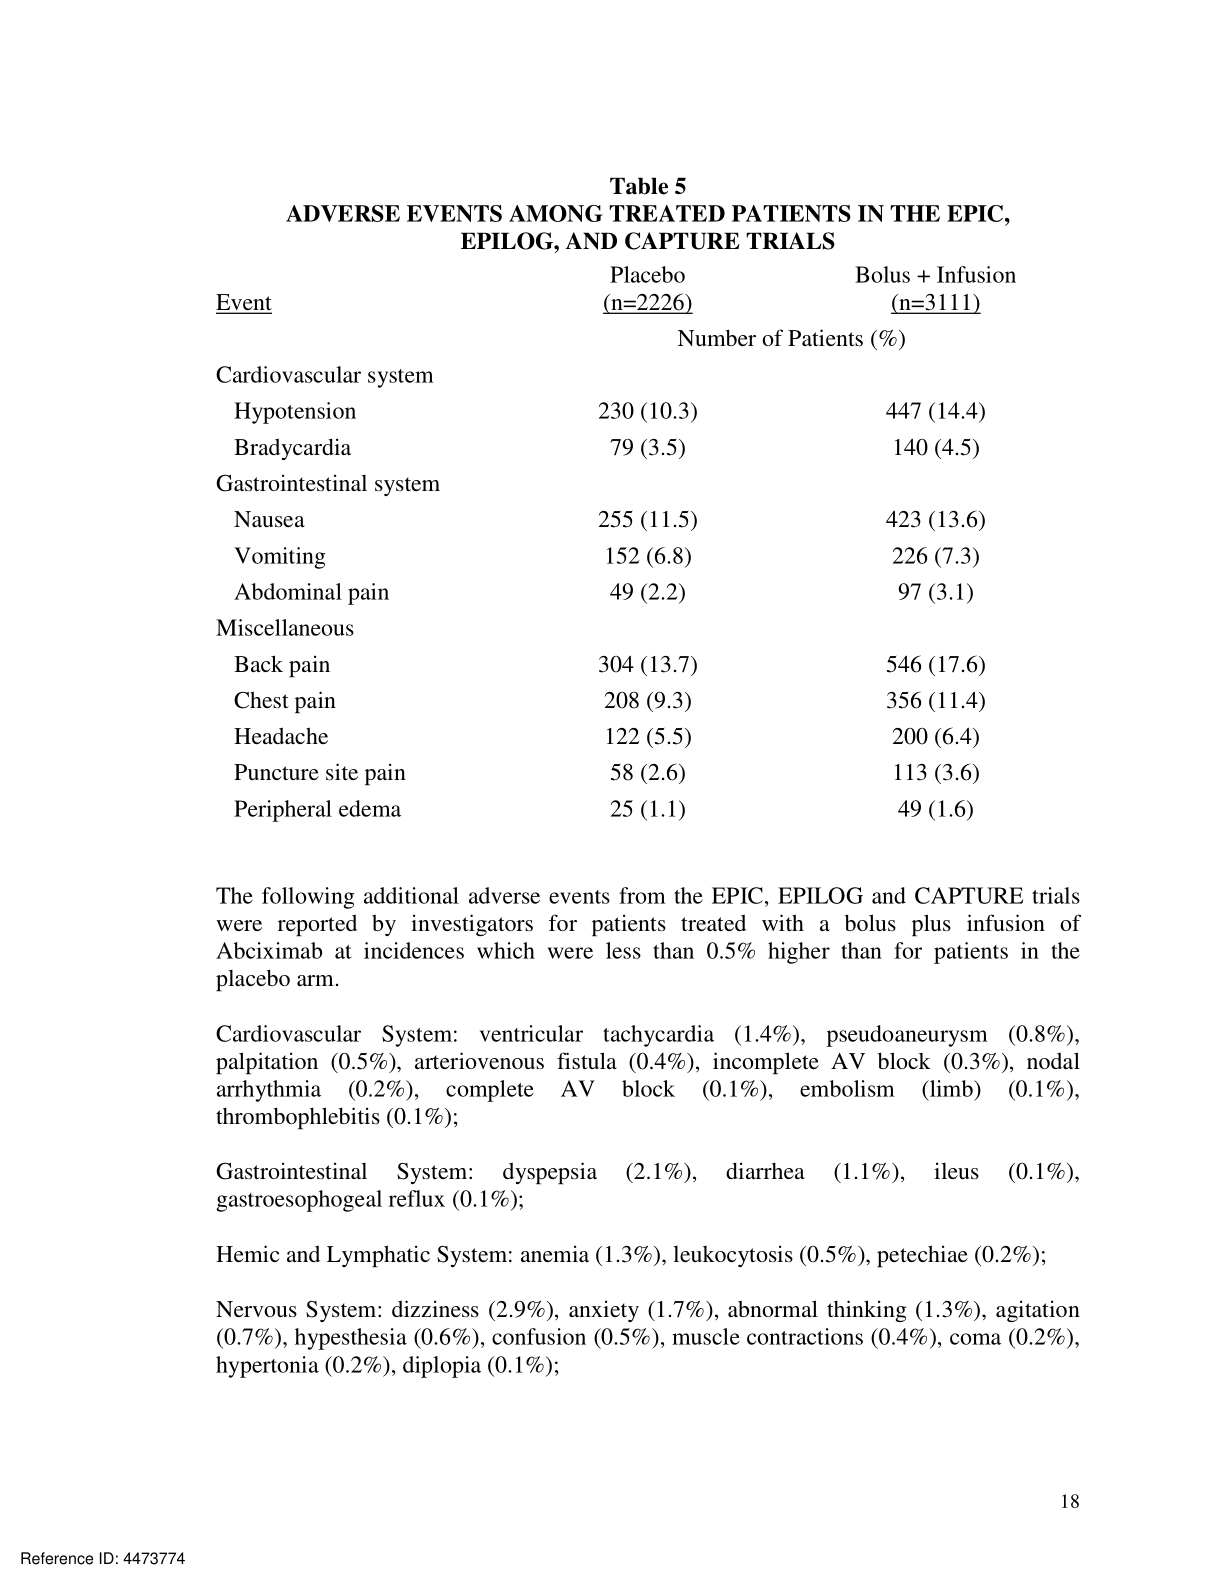nolines: (213, 264, 1016, 822)
